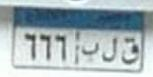6: (54, 33, 69, 62), (23, 32, 38, 61), (39, 33, 53, 62)
baa: (81, 41, 99, 65)
laam: (102, 33, 118, 65)
qaaf: (121, 34, 140, 67)
